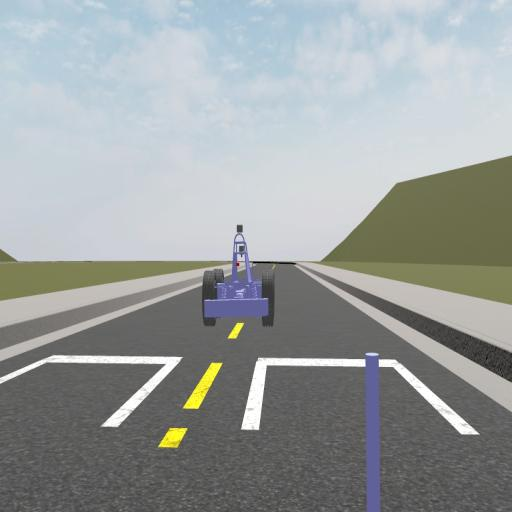ERP-42: (202, 224, 274, 326)
